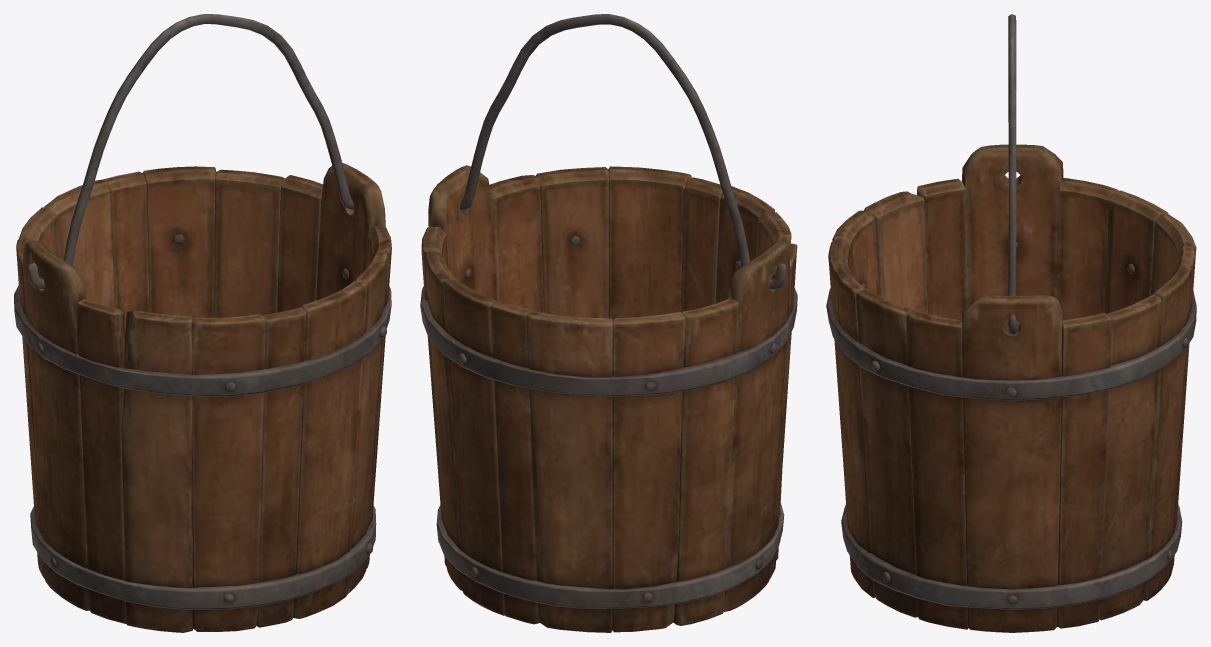
File: wooden_bucket_01.glb
The picture shows the model from 3 angles, left to right: view 1: azimuth 30°, elevation 25°; view 2: azimuth 150°, elevation 25°; view 3: azimuth 270°, elevation 25°; orthographic projection.
Visible parts, largest first — view 1: wooden_bucket_01, wooden_bucket_01_handle; view 2: wooden_bucket_01, wooden_bucket_01_handle; view 3: wooden_bucket_01, wooden_bucket_01_handle.
Part boxes in pixels (bbox=[...]): wooden_bucket_01: bbox=[14, 163, 391, 632]; wooden_bucket_01_handle: bbox=[27, 14, 354, 289]; wooden_bucket_01: bbox=[420, 165, 797, 632]; wooden_bucket_01_handle: bbox=[437, 14, 786, 289]; wooden_bucket_01: bbox=[826, 144, 1196, 632]; wooden_bucket_01_handle: bbox=[1008, 14, 1016, 335].
Bounding box in the file's own units: 0.367 × 0.5499 × 0.3422.
1 material, 1 textured.
